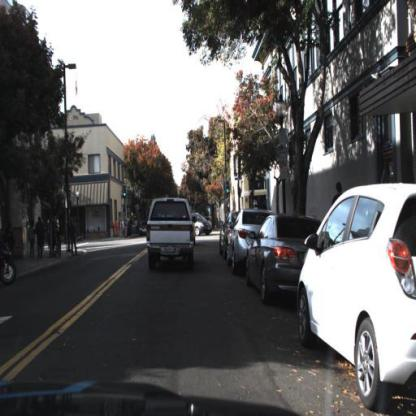car: (295, 167, 416, 416), (242, 213, 328, 307), (246, 211, 314, 308), (143, 193, 202, 280), (226, 205, 273, 276), (228, 210, 251, 274), (187, 210, 216, 242), (218, 211, 237, 257), (139, 222, 150, 239)
pedestrian: (332, 180, 349, 212), (36, 216, 48, 260), (27, 219, 38, 262), (68, 216, 78, 258), (51, 220, 57, 260), (113, 217, 121, 239), (334, 182, 342, 202), (120, 217, 127, 238)
trafficLight-Green: (225, 179, 233, 197), (122, 184, 129, 201)
